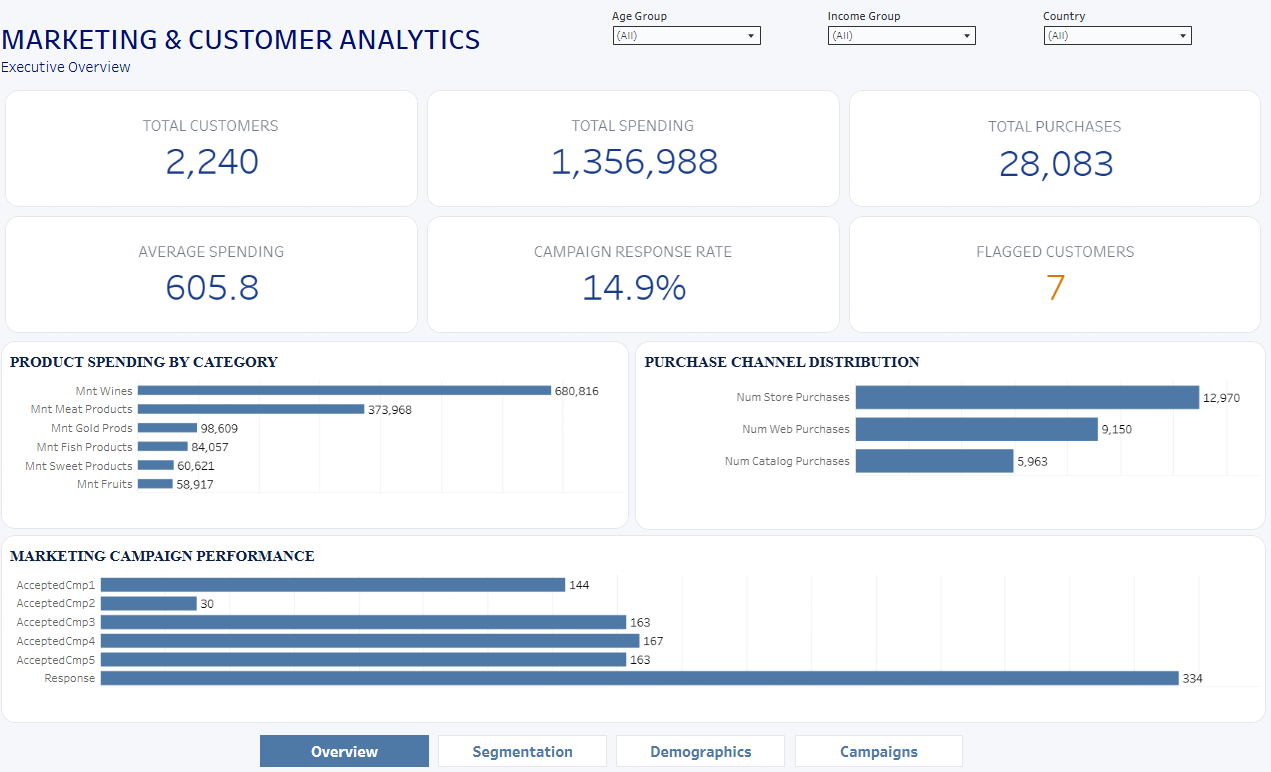

Layout of this report page (visuals, bound fields, positions):
{"tool":"tableau","page":{"name":"01_Executive_Overview","canvas":[1366,830],"ordinal":0},"visuals":[{"type":"text","box":[8,8.6,1350,87.5]},{"type":"filter","title":"CH_Product_Spending","param":"[federated.05ylme20dnpxct1gjvnq2020ji7q].[none:Age_Group:nk]","box":[660,9.7,160,61.6]},{"type":"filter","title":"CH_Product_Spending","param":"[federated.05ylme20dnpxct1gjvnq2020ji7q].[none:Income_Group:nk]","box":[890,9.7,160,56.2]},{"type":"filter","title":"CH_Product_Spending","param":"[federated.05ylme20dnpxct1gjvnq2020ji7q].[none:Country:nk]","box":[1120,9.7,160,62.7]},{"type":"worksheet","title":"KPI_Total_Customers","mark":"Automatic","box":[8,92,450,135]},{"type":"worksheet","title":"KPI_Total_Spending","mark":"Automatic","box":[458,92,450,135]},{"type":"worksheet","title":"KPI_Total_Purchases","mark":"Automatic","box":[908,92,450,135]},{"type":"worksheet","title":"KPI_Avg_Spending","mark":"Automatic","box":[8,226,450,135]},{"type":"worksheet","title":"KPI_Response_Rate","mark":"Automatic","box":[458,226,450,135]},{"type":"worksheet","title":"KPI_Flagged_Customers","mark":"Automatic","box":[908,226,450,135]},{"type":"worksheet","title":"CH_Product_Spending","mark":"Bar","box":[8,365,670,200]},{"type":"worksheet","title":"CH_Purchase_Channels","mark":"Bar","box":[685,365,673,201]},{"type":"worksheet","title":"CH_Campaign_Performance","mark":"Bar","box":[8,572,1350,200]},{"type":"dashboard-object","box":[285,785,180,34]},{"type":"dashboard-object","box":[475,785,180,34]},{"type":"dashboard-object","box":[665,785,180,34]},{"type":"dashboard-object","box":[855,785,180,34]}]}

Visuals, with their boxes in screenshot pixels (x1, y1, x2, y2), scaled from the page's 1366x830 canvas onto the 1271x772 screenshot:
text: 7,8,1264,89
"CH_Product_Spending" filter: 614,9,763,66
"CH_Product_Spending" filter: 828,9,977,61
"CH_Product_Spending" filter: 1042,9,1191,67
"KPI_Total_Customers" worksheet: 7,86,426,211
"KPI_Total_Spending" worksheet: 426,86,845,211
"KPI_Total_Purchases" worksheet: 845,86,1264,211
"KPI_Avg_Spending" worksheet: 7,210,426,336
"KPI_Response_Rate" worksheet: 426,210,845,336
"KPI_Flagged_Customers" worksheet: 845,210,1264,336
"CH_Product_Spending" worksheet (Bar marks): 7,339,631,526
"CH_Purchase_Channels" worksheet (Bar marks): 637,339,1264,526
"CH_Campaign_Performance" worksheet (Bar marks): 7,532,1264,718
dashboard-object: 265,730,433,762
dashboard-object: 442,730,609,762
dashboard-object: 619,730,786,762
dashboard-object: 796,730,963,762
